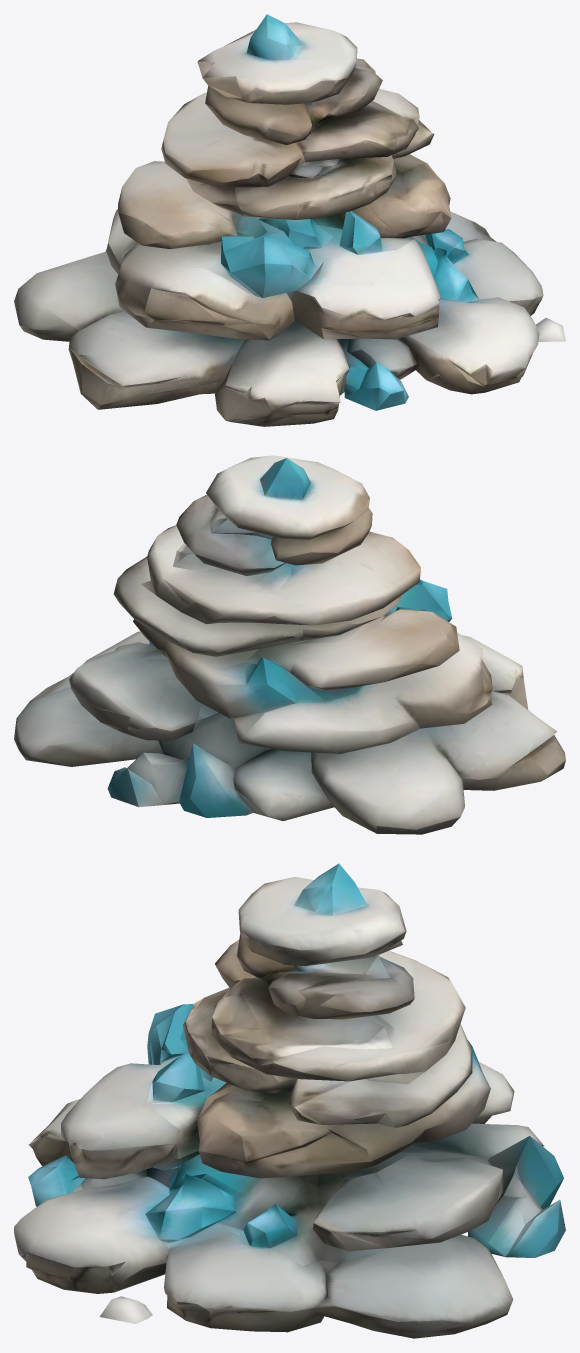
Rendered from m2SummitCairn.glb.
3 renders of one model, top to bottom at view 1: azimuth 30°, elevation 25°; view 2: azimuth 150°, elevation 25°; view 3: azimuth 270°, elevation 25°, orthographic. The views are drawn at different scales.
Parts seen in each view (by area): view 1: model; view 2: model; view 3: model.
Boxes of the visible parts, bbox=[...] form: model: bbox=[14, 14, 565, 426]; model: bbox=[14, 455, 565, 834]; model: bbox=[14, 863, 565, 1338].
Size of the model in its own units: 1.89 by 1.19 by 1.71.
1 material, 1 textured.
